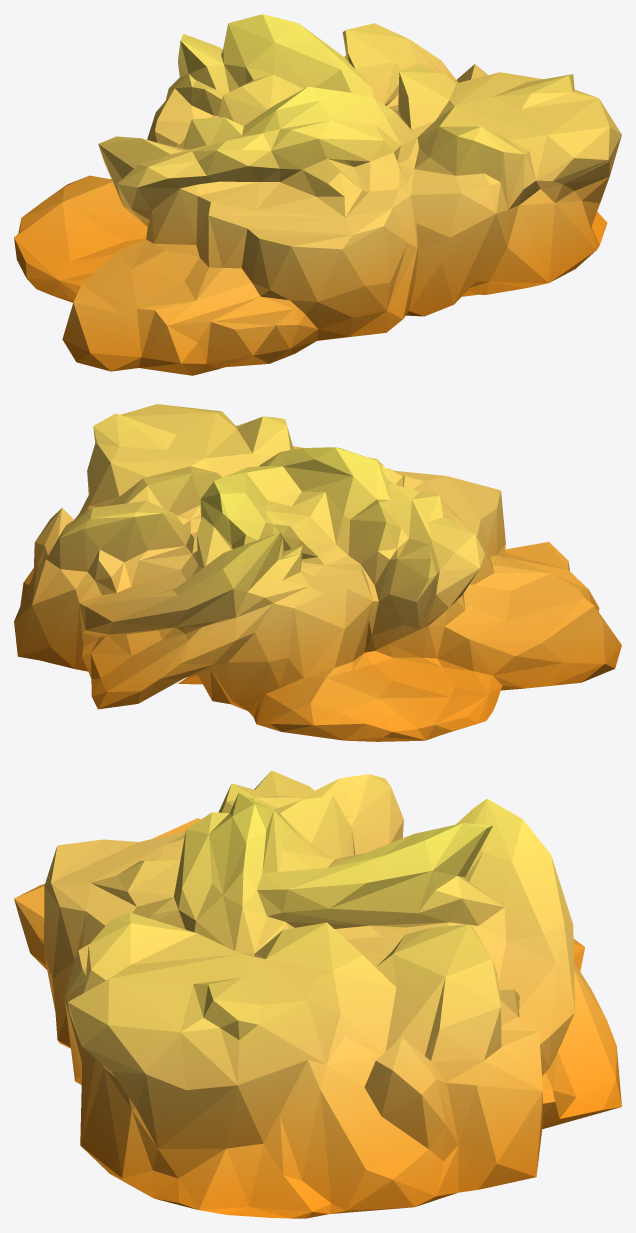
File: SM_Rock_5.fbx
The picture shows the model from 3 angles, top to bottom: view 1: azimuth 30°, elevation 25°; view 2: azimuth 150°, elevation 25°; view 3: azimuth 270°, elevation 25°; orthographic projection. The views are drawn at different scales.
Visible parts, largest first — view 1: Rock_5; view 2: Rock_5; view 3: Rock_5.
Part boxes in pixels (x1=…): Rock_5: x1=14, y1=14, x2=621, y2=375; Rock_5: x1=14, y1=404, x2=621, y2=741; Rock_5: x1=14, y1=770, x2=621, y2=1218.
Bounding box in the file's own units: 1342 × 458 × 1028.
